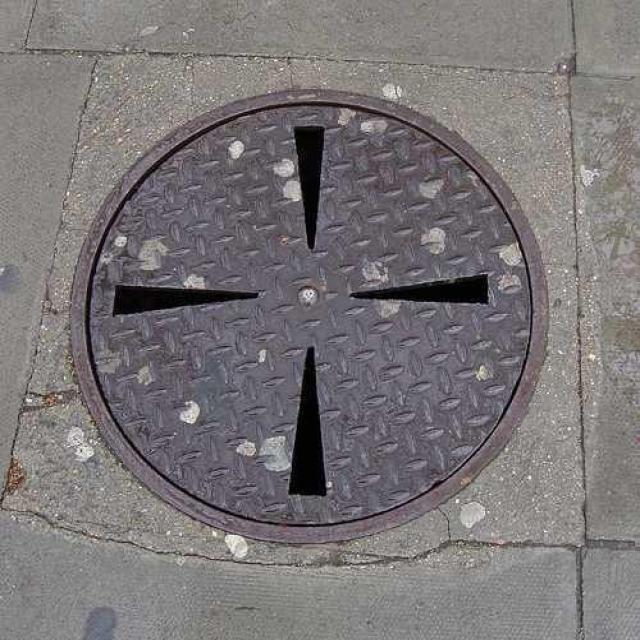manhole: (73, 91, 546, 542)
